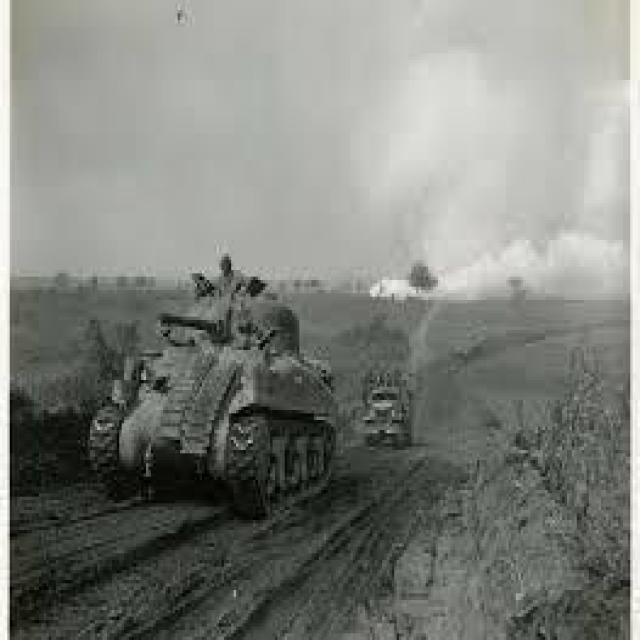Tanks: (54, 166, 350, 546), (350, 298, 426, 472)
